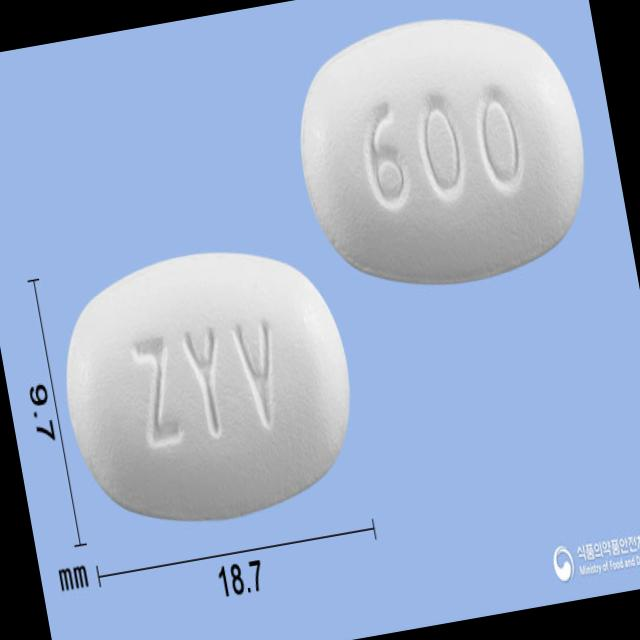Zyvox Tab: (44, 229, 370, 544), (280, 0, 603, 307)
